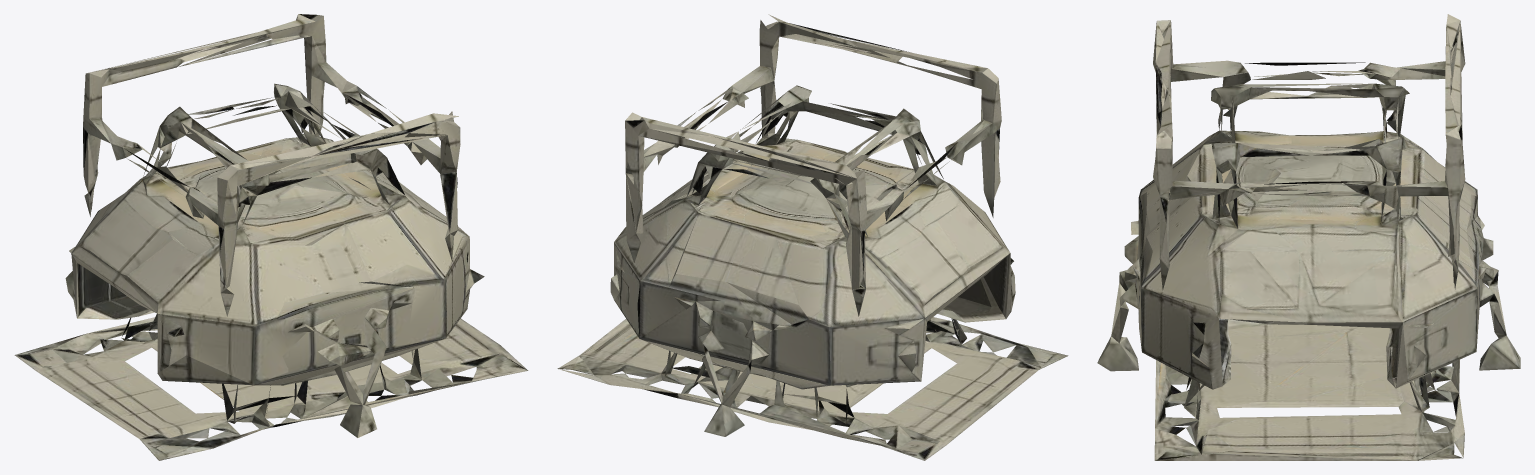
File: facility-drydock.glb
The picture shows the model from 3 angles, left to right: view 1: azimuth 30°, elevation 25°; view 2: azimuth 150°, elevation 25°; view 3: azimuth 270°, elevation 25°; orthographic projection. The views are drawn at different scales.
Bounding box in the file's own units: 1.9 × 1.35 × 1.76.
1 material, 1 textured.
